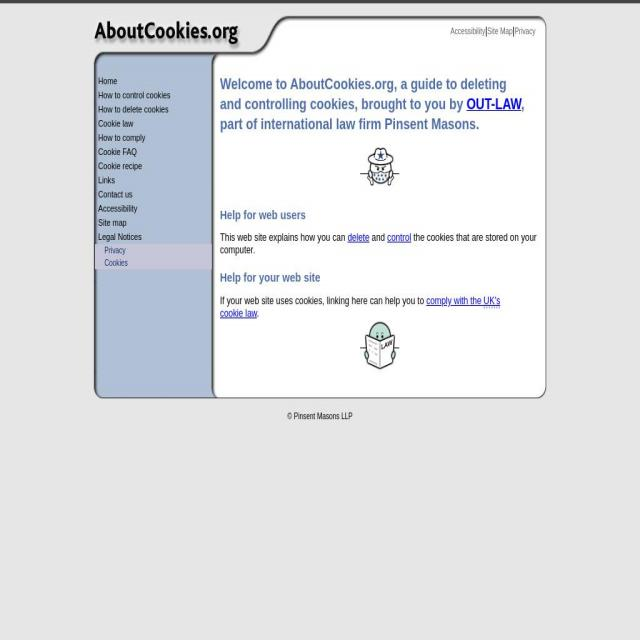navigation-links: (94, 67, 214, 270)
